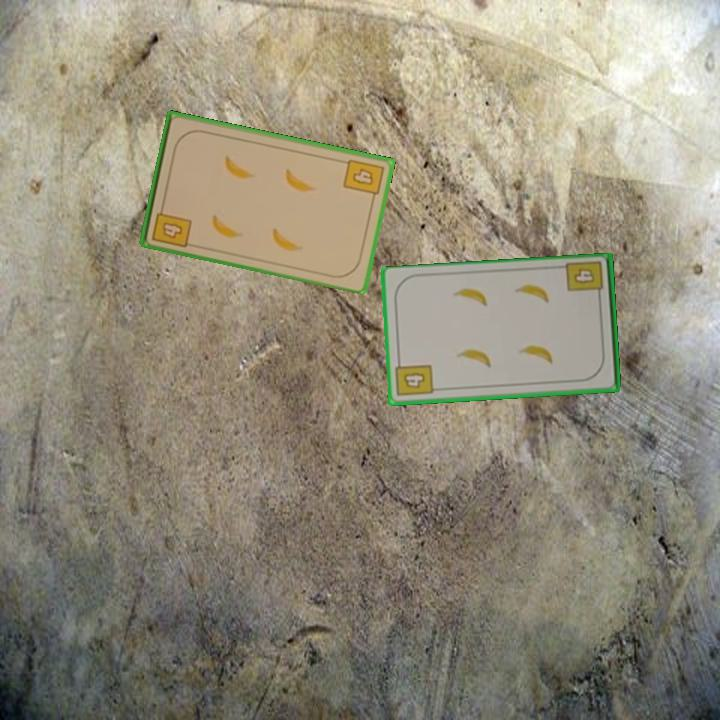4b: (340, 155, 387, 204), (148, 201, 194, 251), (392, 356, 436, 399), (563, 258, 606, 302)
